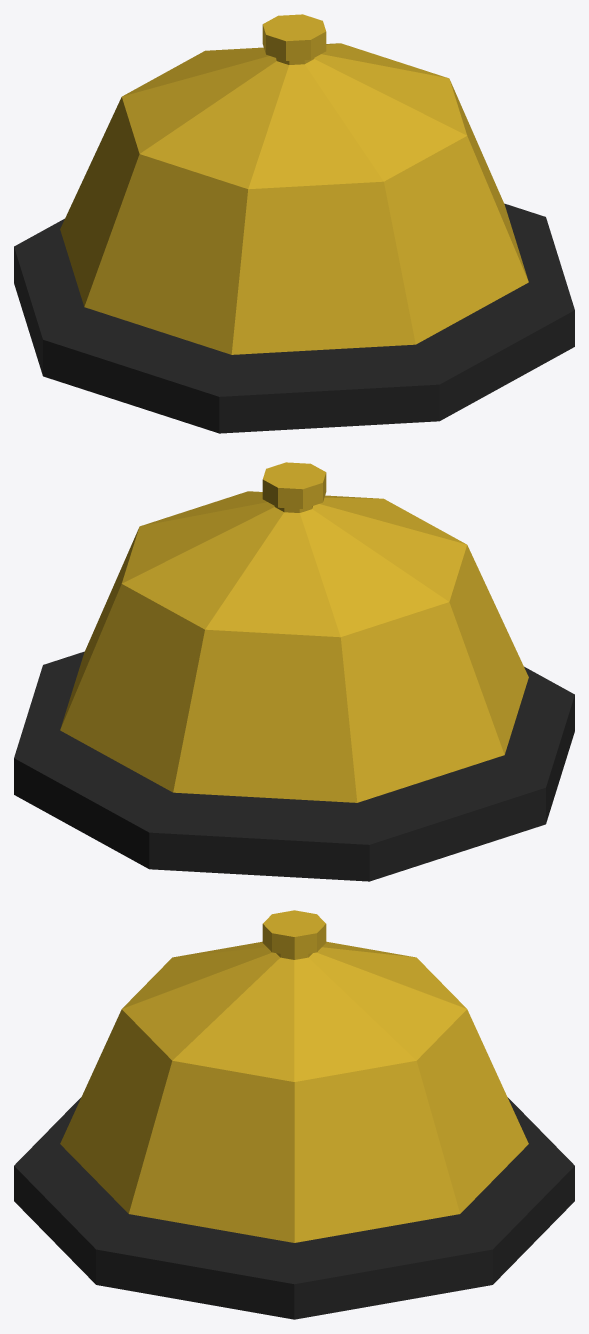
File: Bell.fbx
3 renders of one model, top to bottom at view 1: azimuth 30°, elevation 25°; view 2: azimuth 150°, elevation 25°; view 3: azimuth 270°, elevation 25°, orthographic. The views are drawn at different scales.
Parts seen in each view (by area): view 1: Bell; view 2: Bell; view 3: Bell.
Part boxes in pixels (bbox=[...]): Bell: bbox=[14, 14, 574, 433]; Bell: bbox=[14, 462, 574, 881]; Bell: bbox=[14, 910, 574, 1319].
Bounding box in the file's own units: 9.89 × 5.39 × 9.89.
